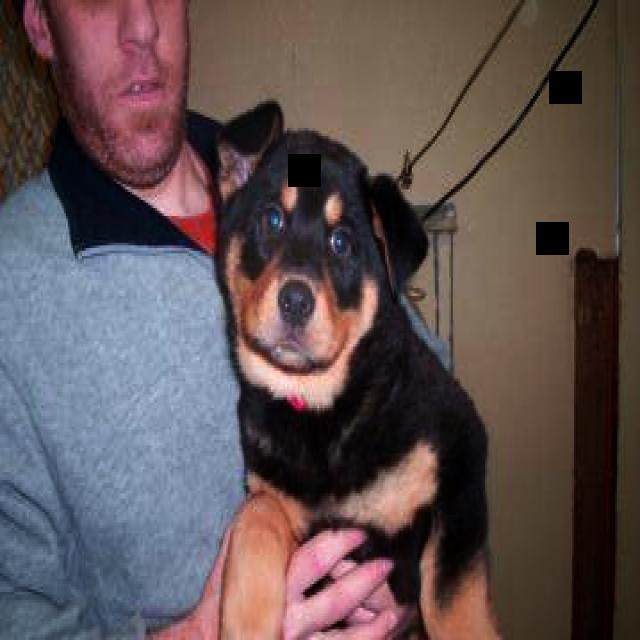non-dog: (0, 1, 433, 634)
puppy-dog: (214, 118, 504, 631)
